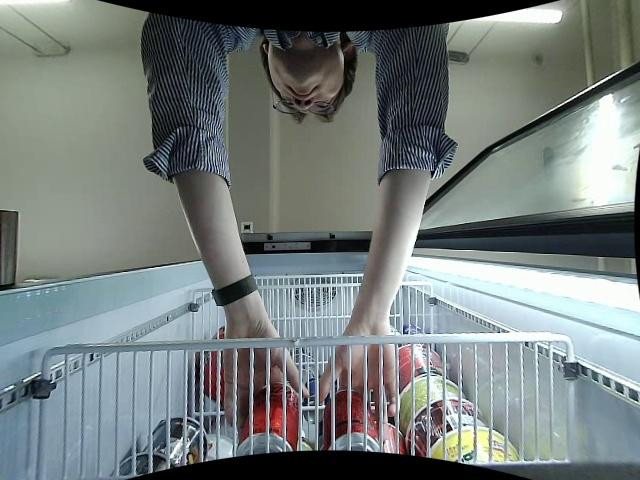00_hand: (220, 322, 310, 428), (315, 316, 396, 416)
11_cocaColaZero: (239, 384, 299, 461), (323, 391, 378, 452)
